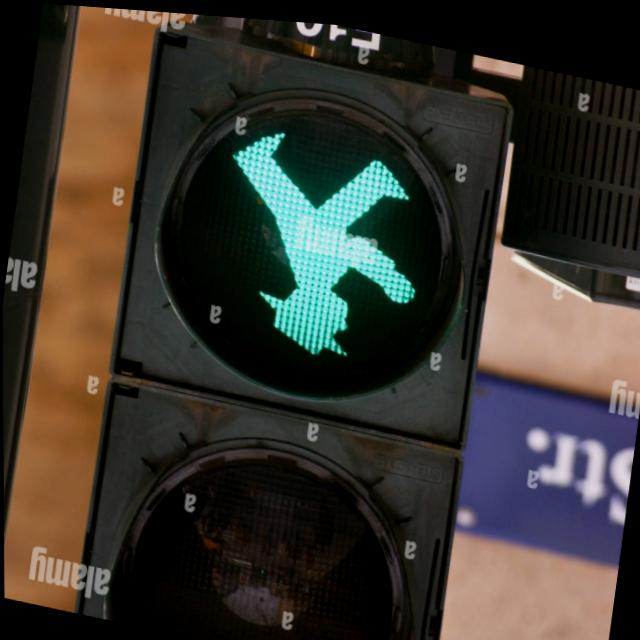green_light: (219, 118, 414, 369)
